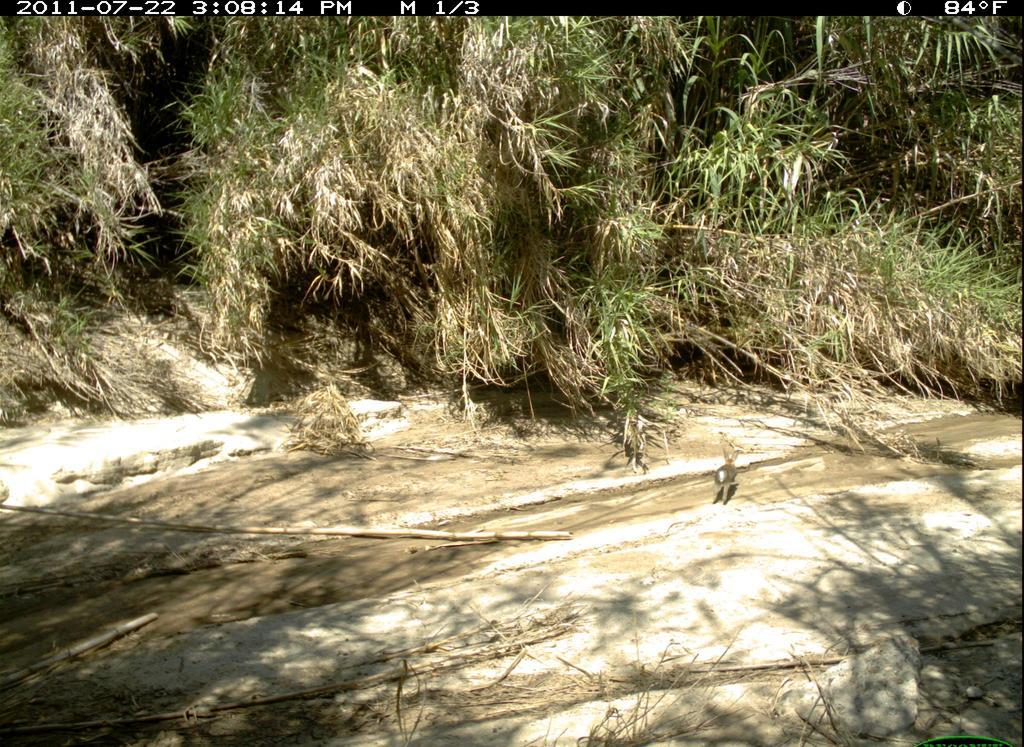rabbit: (711, 440, 747, 507)
